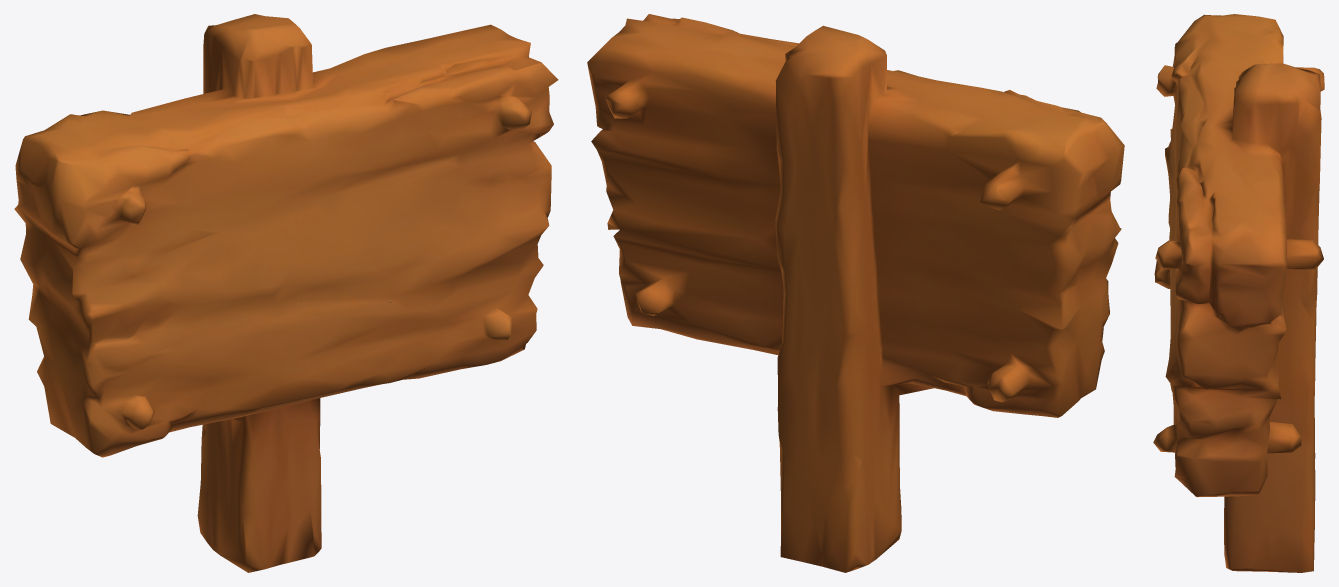
The model's file is board.glb.
The picture shows the model from 3 angles, left to right: view 1: azimuth 30°, elevation 25°; view 2: azimuth 150°, elevation 25°; view 3: azimuth 270°, elevation 25°; orthographic projection. The views are drawn at different scales.
Visible parts, largest first — view 1: tripo_node_151bdf26-353d-4e8c-8437-36340a6d4f5f; view 2: tripo_node_151bdf26-353d-4e8c-8437-36340a6d4f5f; view 3: tripo_node_151bdf26-353d-4e8c-8437-36340a6d4f5f.
Part boxes in pixels (<box>): tripo_node_151bdf26-353d-4e8c-8437-36340a6d4f5f: <box>14,14,558,572</box>; tripo_node_151bdf26-353d-4e8c-8437-36340a6d4f5f: <box>587,14,1124,572</box>; tripo_node_151bdf26-353d-4e8c-8437-36340a6d4f5f: <box>1153,14,1324,572</box>.
Size of the model in its own units: 0.9803 by 0.9803 by 0.3145.
Materials: 1 (1 with a texture image).
